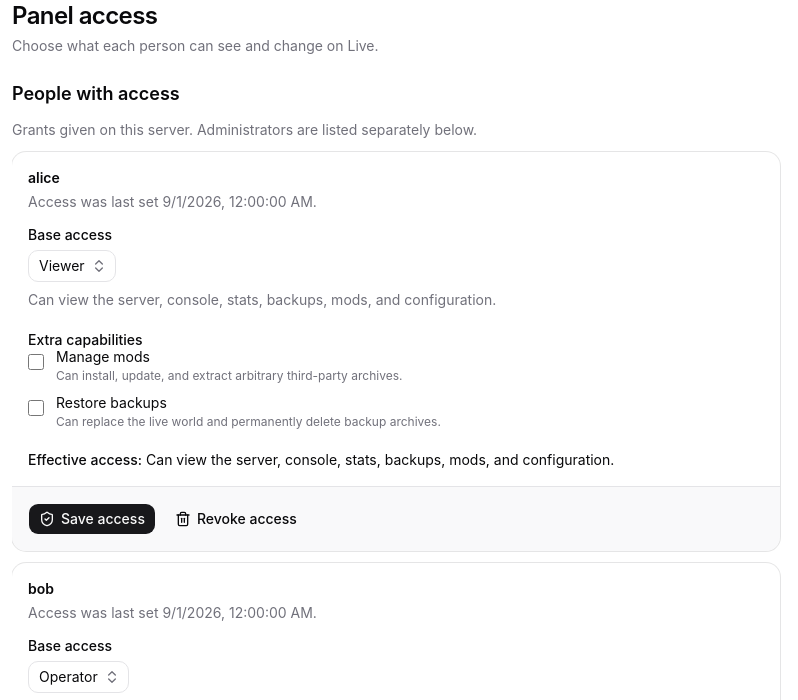
unsaved edits while another person changes › discards every edit from the conflict banner
Click the checkbox labelled "Manage mods": (36, 362) [28, 354, 44, 370]
(page scrolled)
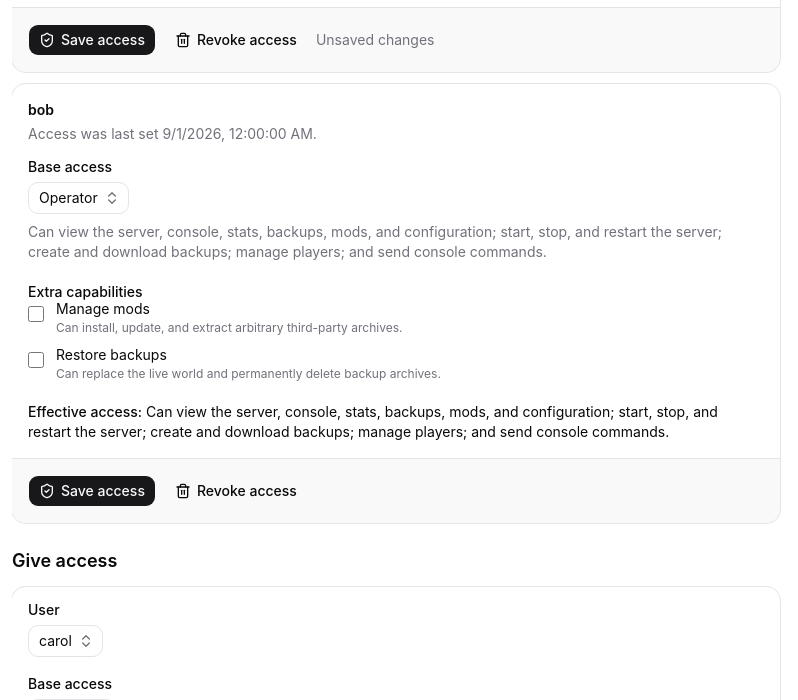
Click the checkbox labelled "Restore backups": (36, 360) [28, 352, 44, 368]
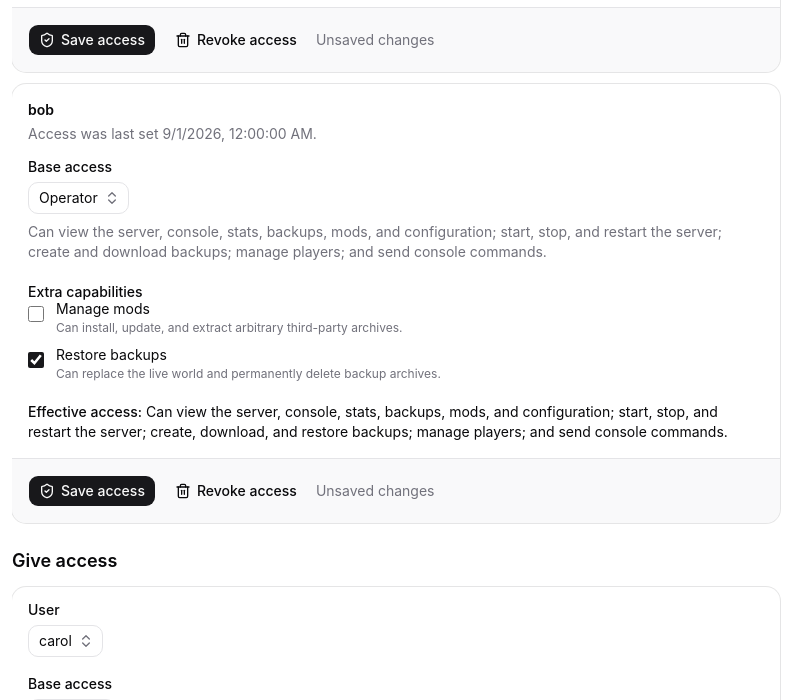
Click the 2nd button "Save access": (92, 491) [28, 475, 156, 507]
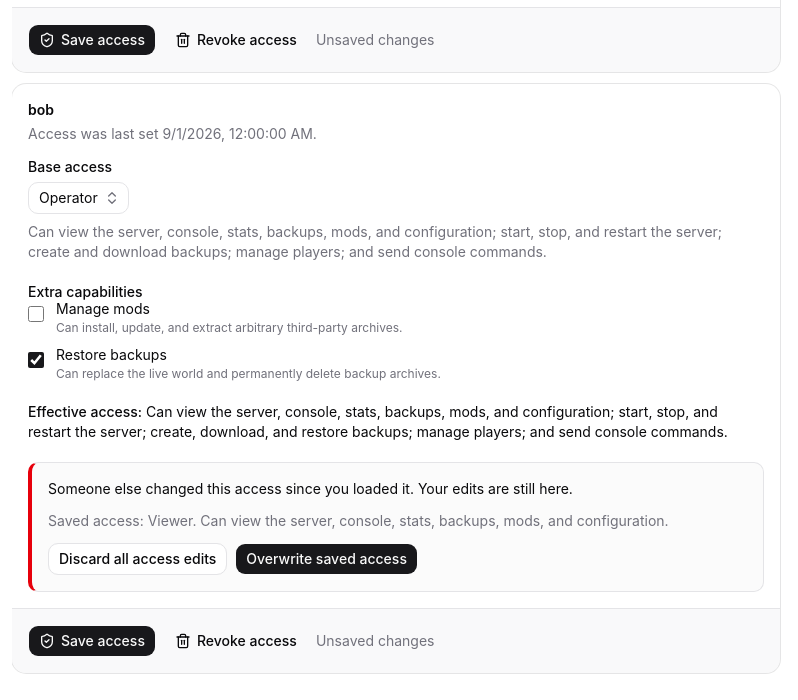
Click the button "Discard all access edits": (138, 559) [48, 543, 227, 575]
(page scrolled)
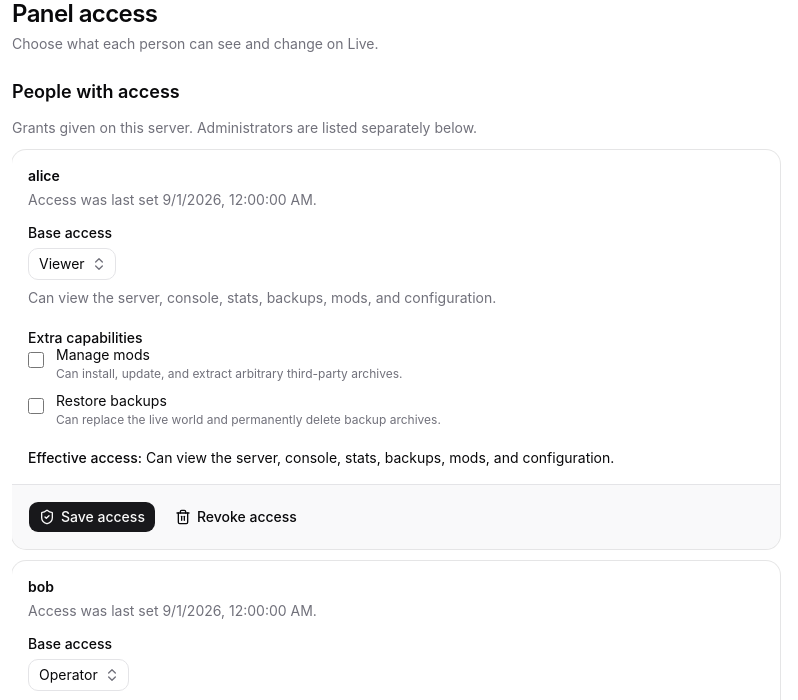
Now the checkbox labelled "Manage mods" is not checked, box [28, 352, 44, 368]
Now the text "Unsaved changes" is gone
